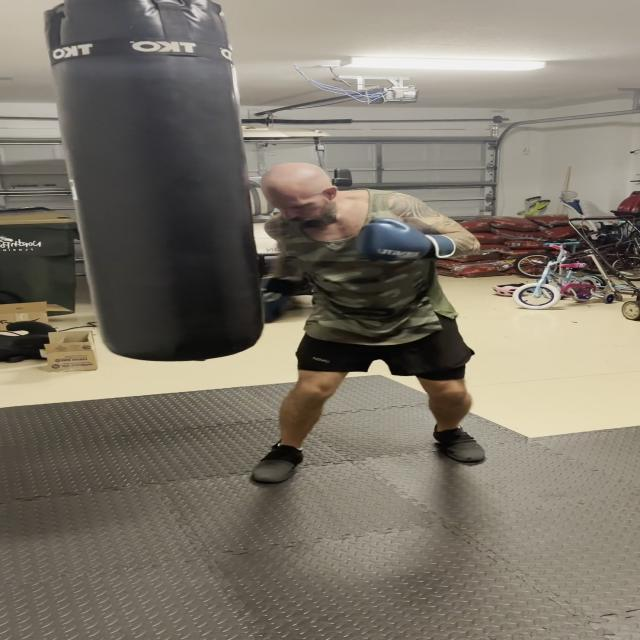bag: (76, 1, 245, 367)
uppercut: (246, 162, 484, 327)
